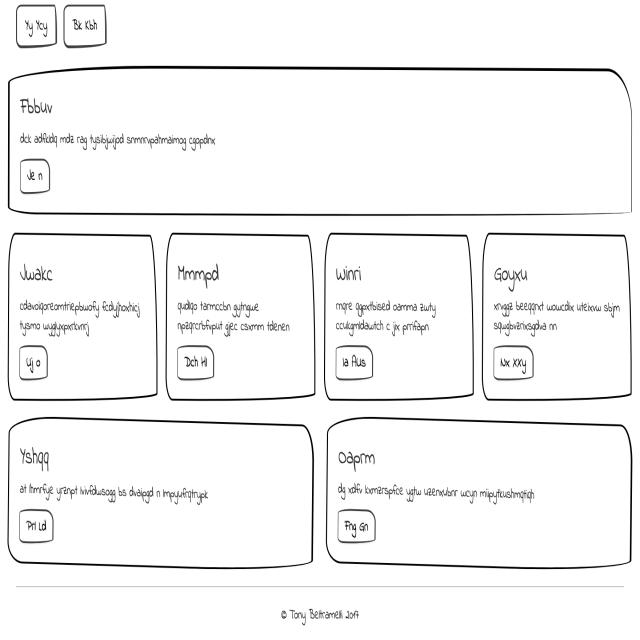Button: (334, 342, 382, 384), (491, 338, 535, 382), (336, 508, 382, 546), (174, 343, 218, 382), (15, 509, 57, 545), (18, 156, 52, 195), (17, 346, 51, 379)
Card: (5, 68, 635, 222), (5, 418, 317, 572), (323, 415, 633, 568), (167, 231, 321, 406), (484, 230, 633, 408), (7, 233, 160, 406), (326, 231, 476, 406)
Footer: (5, 588, 640, 640)
Heading 6: (336, 443, 383, 475), (177, 260, 224, 288), (16, 439, 56, 471), (493, 260, 533, 291), (18, 88, 58, 117), (20, 258, 54, 286), (332, 260, 366, 286)
Navigation Bar: (11, 4, 115, 52)
Paragraph: (15, 469, 217, 508), (17, 125, 221, 159), (334, 474, 537, 507), (19, 297, 148, 343), (492, 293, 625, 335), (174, 297, 296, 340), (331, 292, 444, 336)
